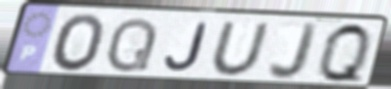J: (266, 20, 322, 82), (162, 21, 211, 73)
O: (49, 12, 108, 74)
Q: (316, 20, 373, 87), (103, 15, 160, 75)
U: (209, 21, 273, 78)
